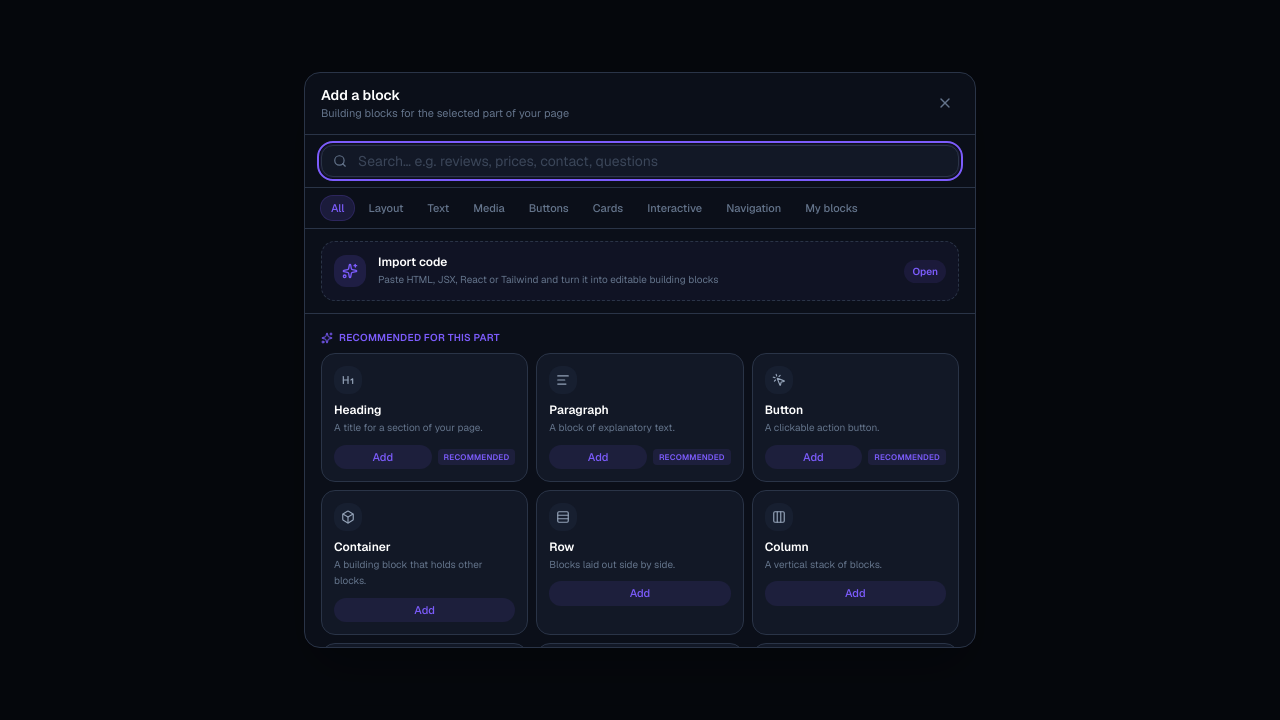
Scenario: Block Browser — My Blocks tab › shows the empty state for a fresh library
The width and height of the screenshot is (1280, 720).
Click the tab with test id "block-cat-my-blocks".
click(831, 208)  # box [795,196,868,220]
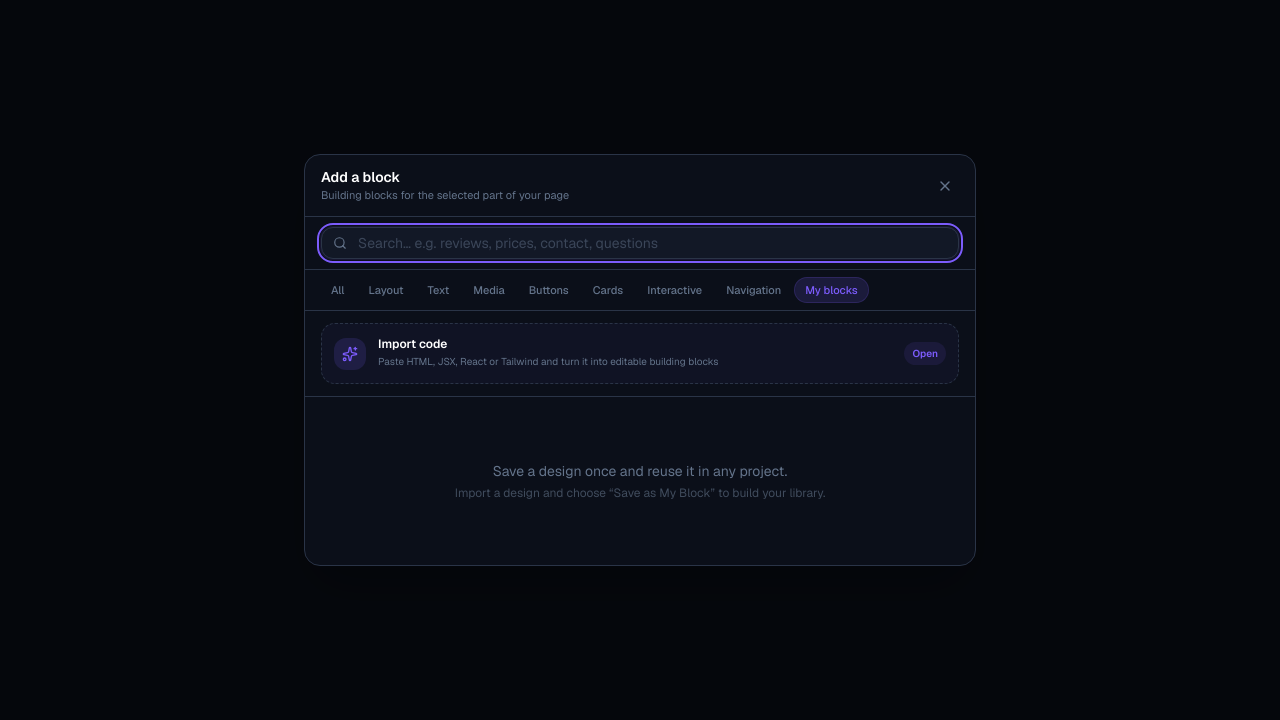
Check: the element with test id "my-blocks-browser-empty" is shown, box [455,462,825,501]
